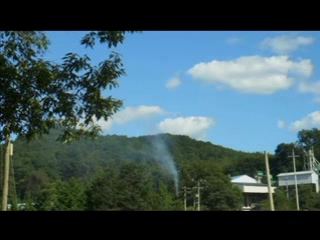smoke: (146, 137, 183, 199)
